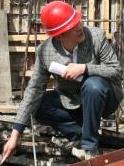boots: (71, 145, 98, 160)
hard-hat: (40, 1, 82, 37)
